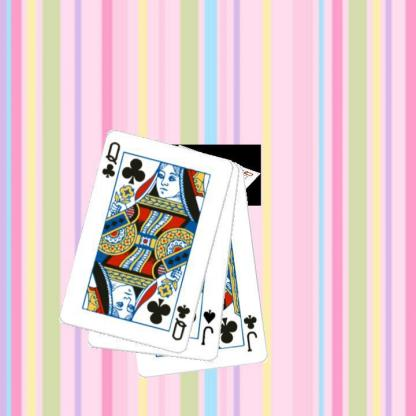JC: (241, 312, 259, 354)
JS: (199, 306, 217, 347)
QC: (99, 139, 122, 180), (169, 302, 192, 342)
